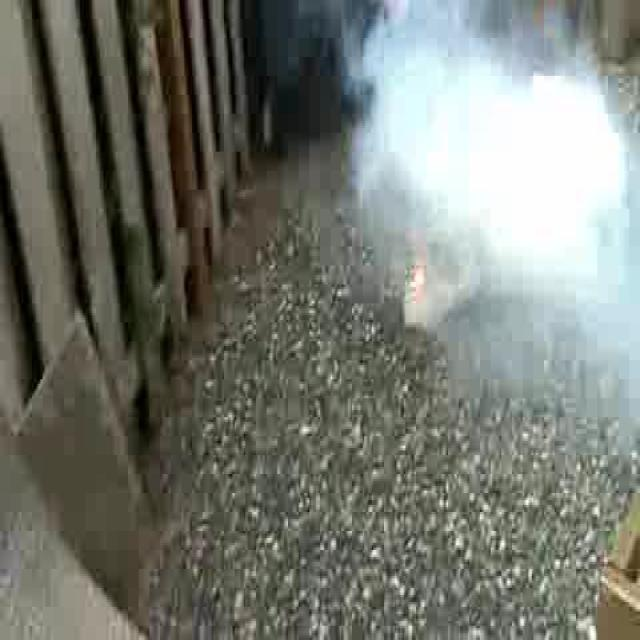Smoke: (332, 0, 640, 465)
